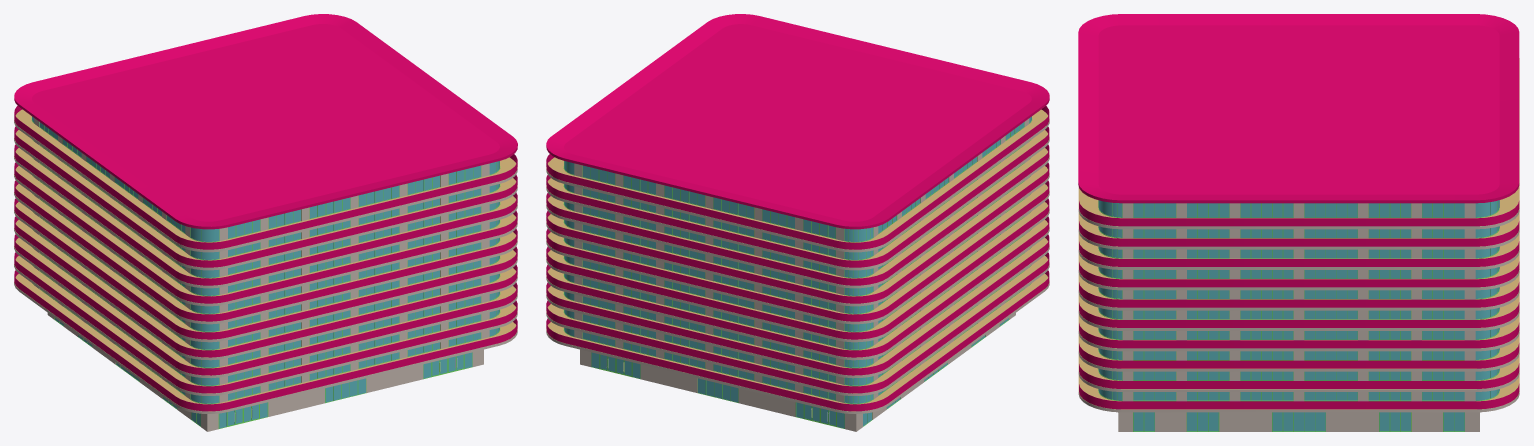
File: Building_7_2.FBX
3 views of the same model, side by side, from view 1: azimuth 30°, elevation 25°; view 2: azimuth 150°, elevation 25°; view 3: azimuth 270°, elevation 25° (orthographic). The views are drawn at different scales.
Visible parts, largest first — view 1: B-7-F2C_LOD0; view 2: B-7-F2C_LOD0; view 3: B-7-F2C_LOD0.
Boxes of the visible parts, bbox=[...] form: B-7-F2C_LOD0: bbox=[14, 14, 517, 431]; B-7-F2C_LOD0: bbox=[546, 14, 1049, 431]; B-7-F2C_LOD0: bbox=[1078, 14, 1519, 431].
Size of what is drawn, in the model's own units: 5500 by 3419 by 5503.
